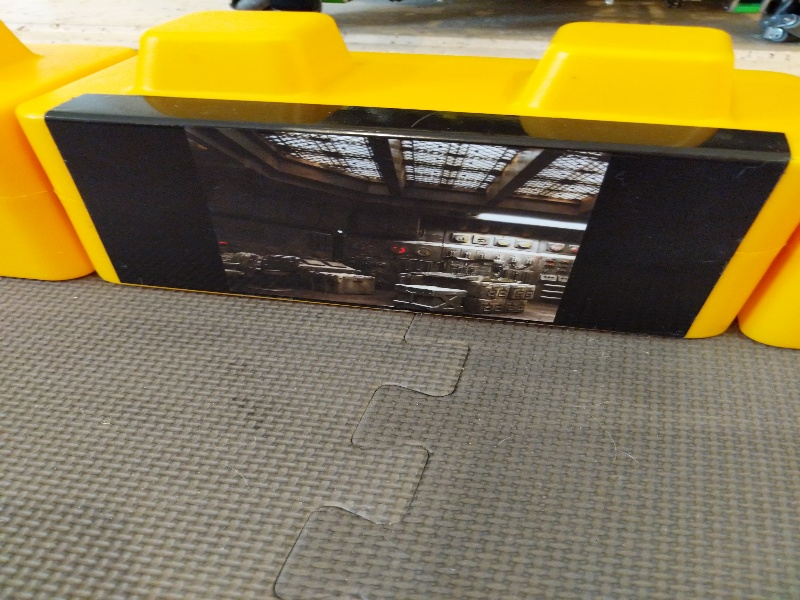Skystone: (34, 82, 793, 348)
